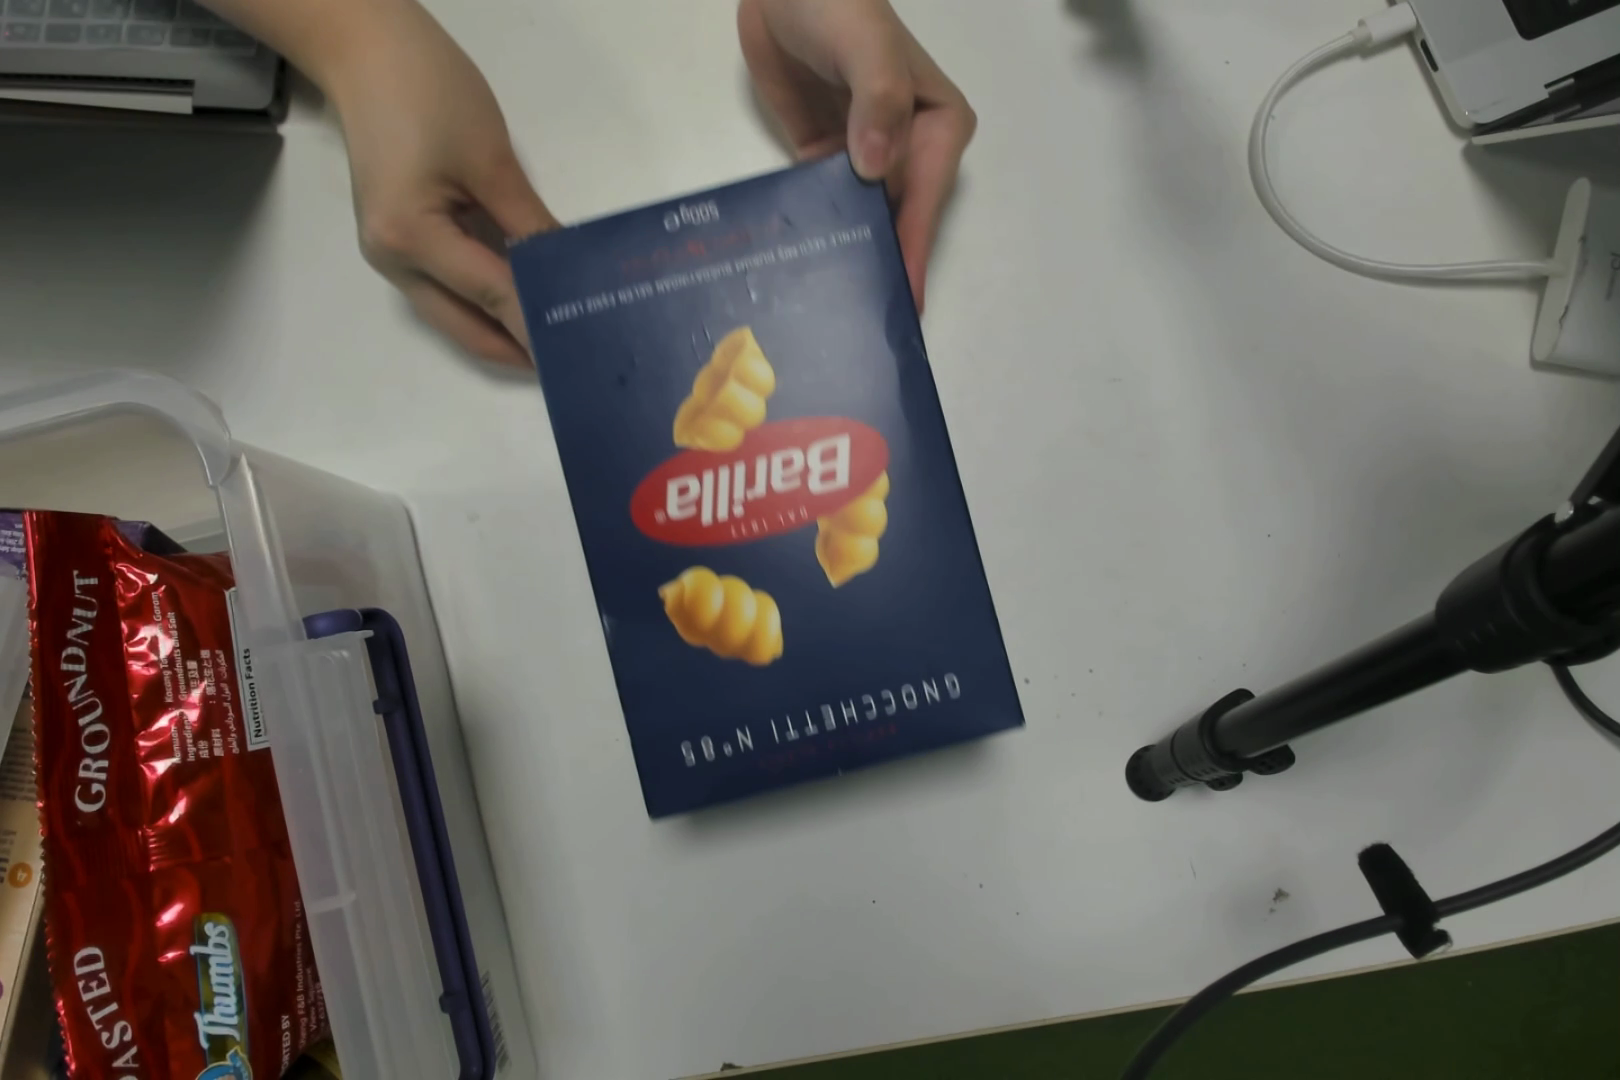Pasta_500-599g_NonHalal_NonHealthy: (595, 213, 968, 767)
